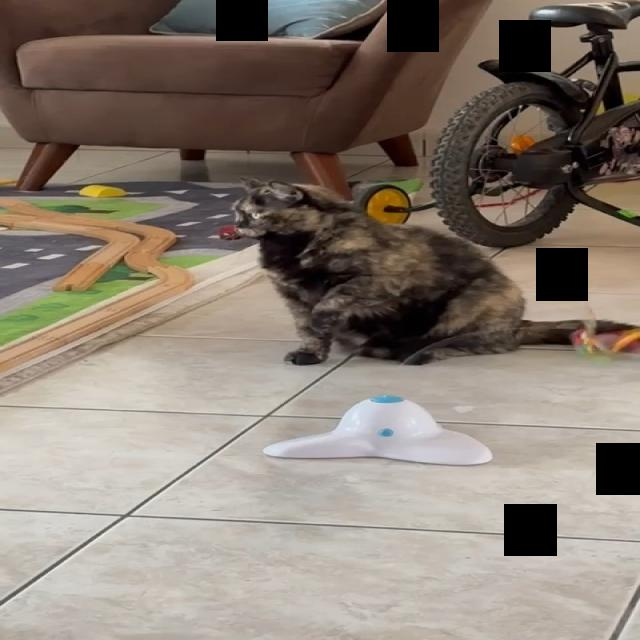authorized: (220, 176, 637, 366)
